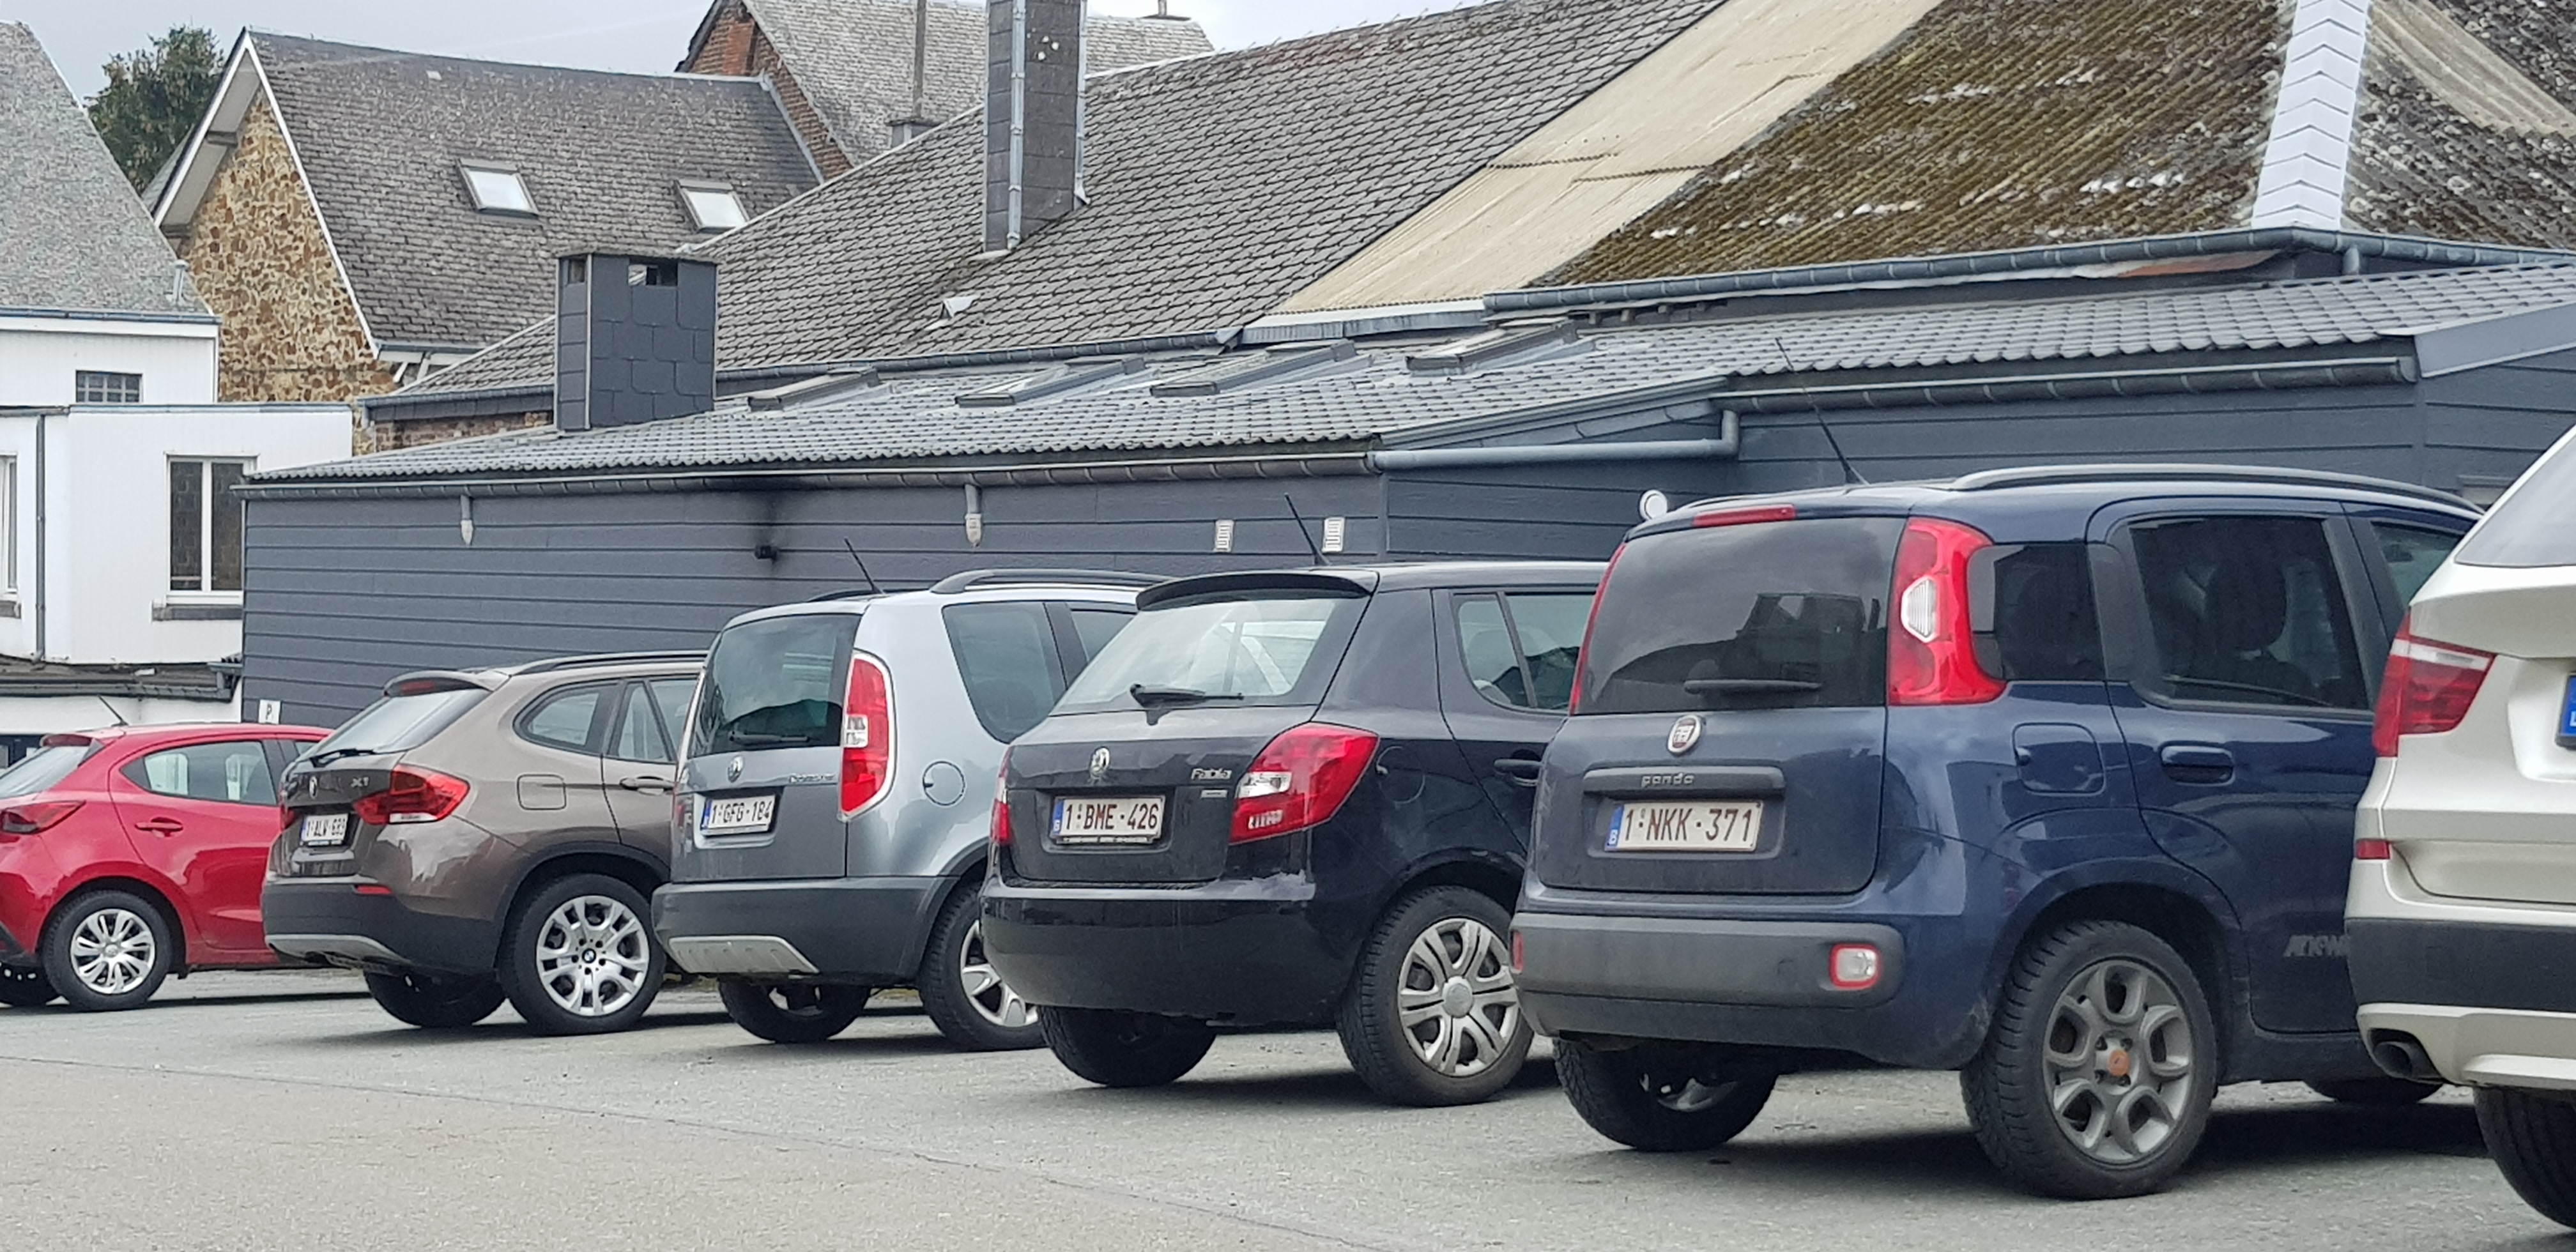licenceplate: (1603, 802, 1765, 848), (1050, 793, 1170, 848), (701, 795, 775, 828), (300, 814, 348, 844)
